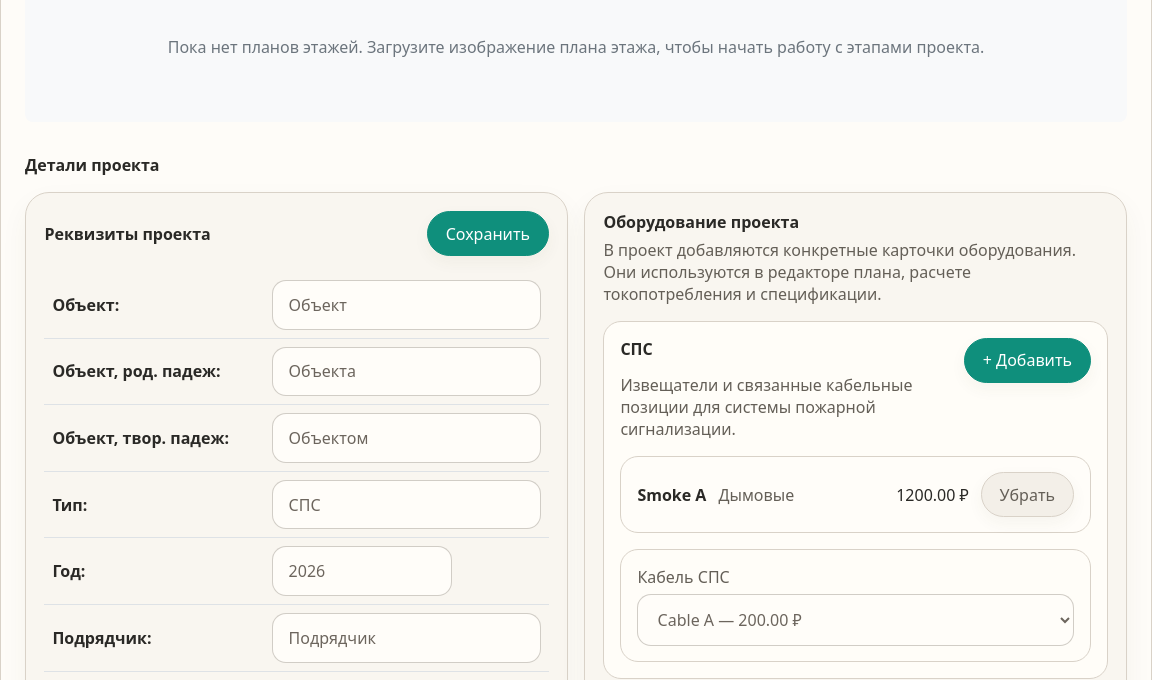
project detail attaches an existing catalog item into the selected group
(page scrolled)
Check: the heading "Оборудование проекта" is shown, box [603,211,799,233]
Click the 1st button "+ Добавить" at x=1027, y=360, box [964,338,1091,383]
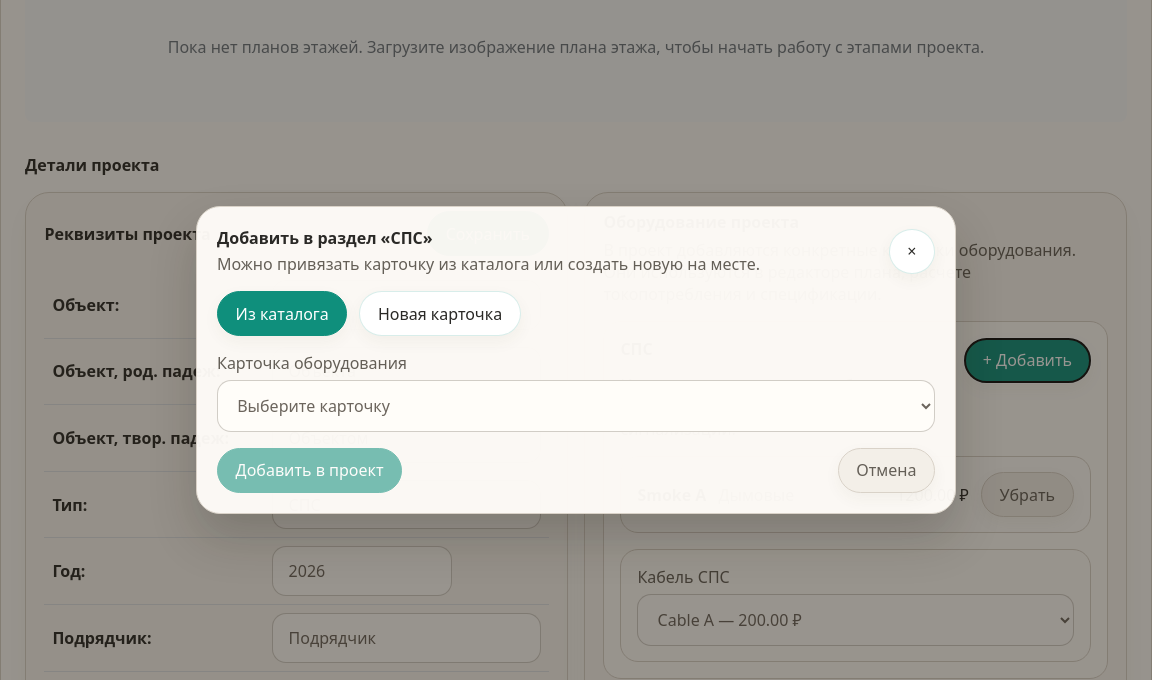
Select "Smoke B — Дымовые — 1300.00 ₽" in the dropdown labelled "Карточка оборудования" at x=576, y=406, box [217,380,935,432]
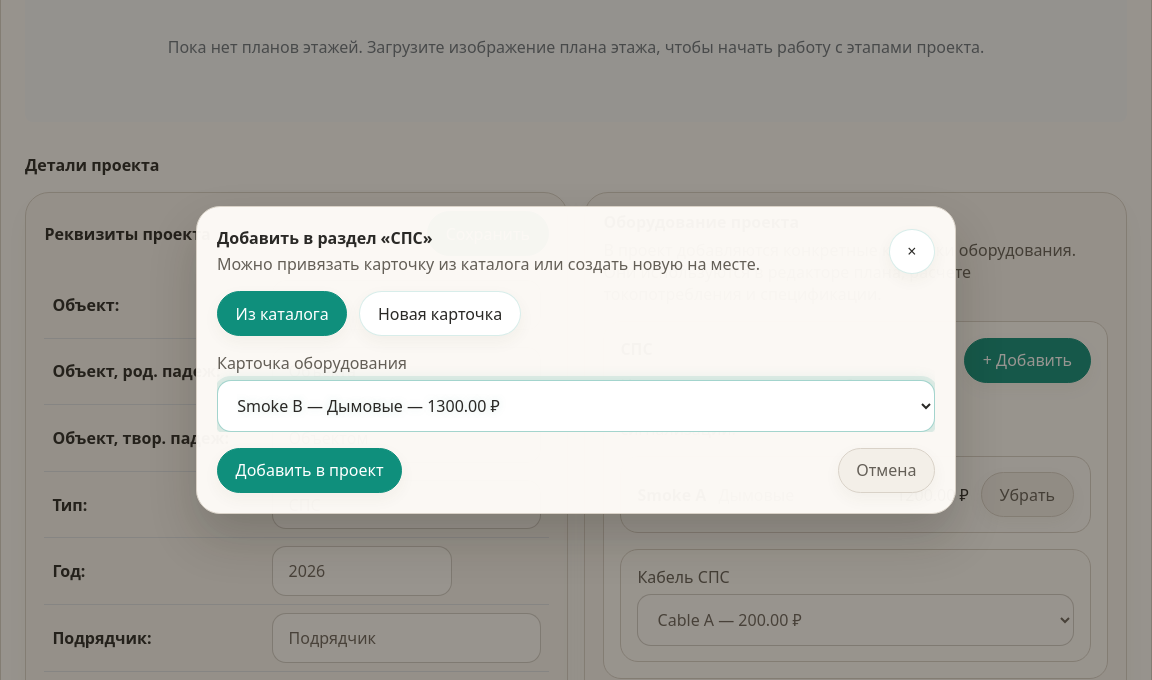
Click the button "Добавить в проект" at x=310, y=470, box [217,448,402,493]
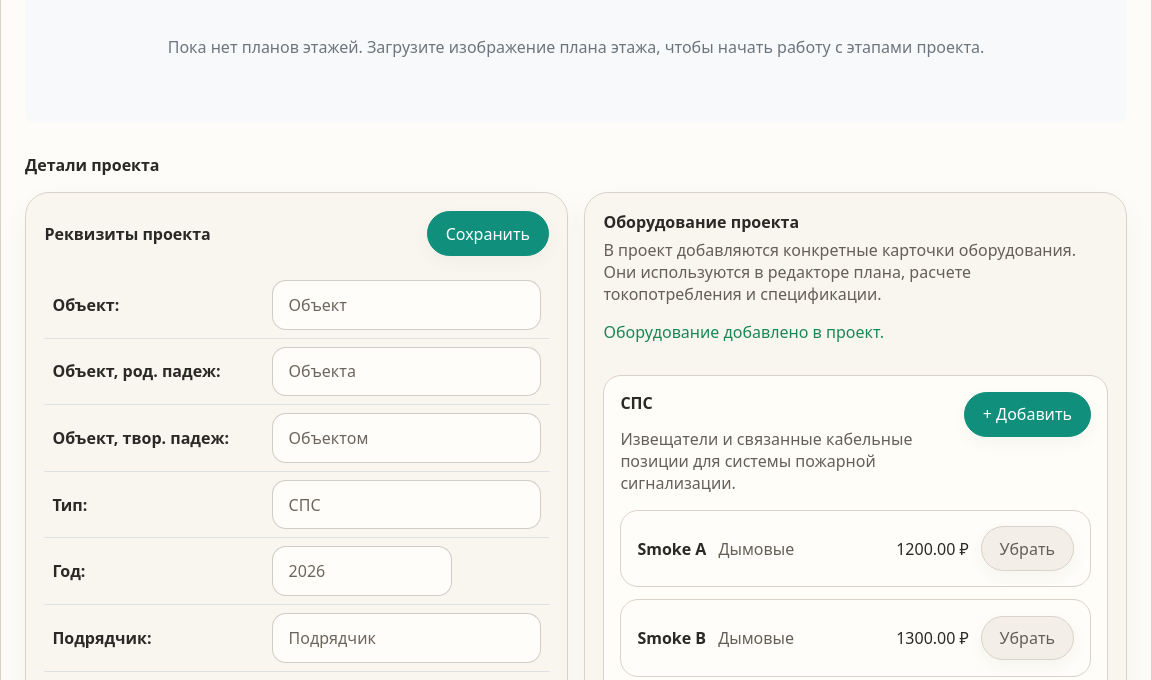
Check: the text "Smoke B" is shown, box [637,627,706,649]
